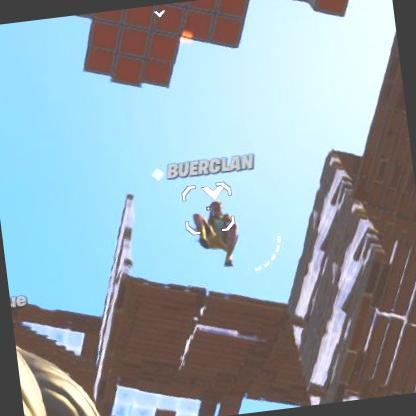person: (196, 186, 247, 264)
